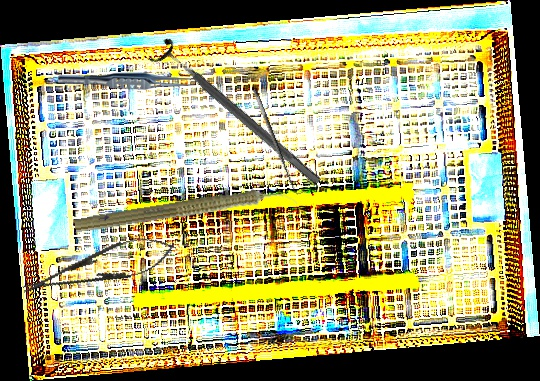Fixation Ring: (146, 34, 330, 195)
Handpiece: (73, 180, 298, 242)
Hook Surgical: (250, 85, 307, 198)
Needle Holder: (17, 226, 181, 308)
Tissue Forceps: (58, 72, 196, 90)
